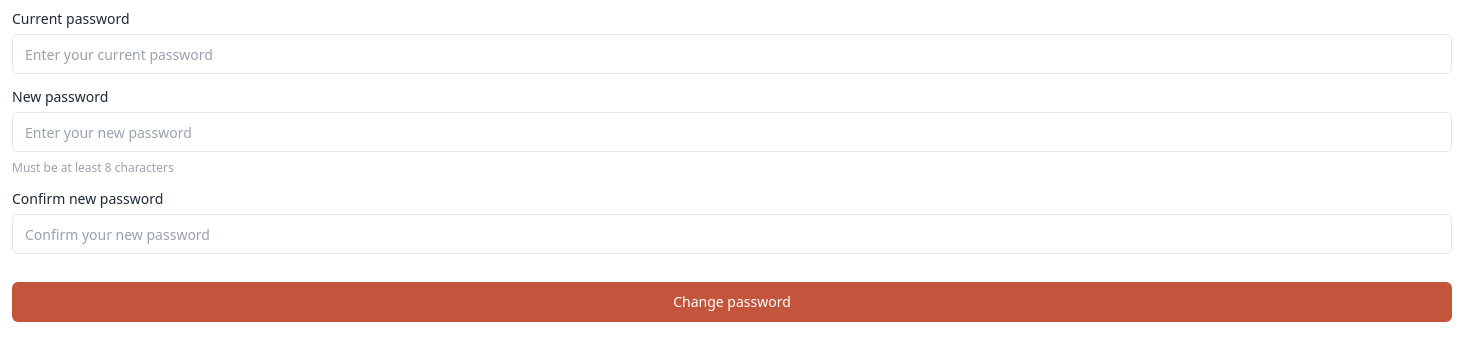
it: ChangePasswordForm › shows validation error when current password is empty
The image size is (1464, 363).
Type "newpassword123" into the password field labelled "New password" at x=732, y=132, box [12,112,1452,152]
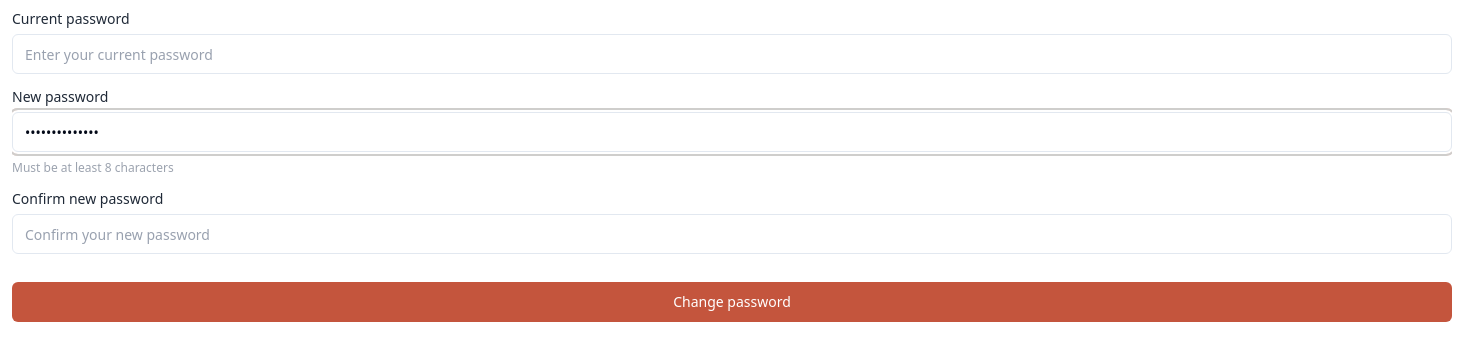
Type "newpassword123" into the password field labelled "Confirm new password" at x=732, y=234, box [12,214,1452,254]
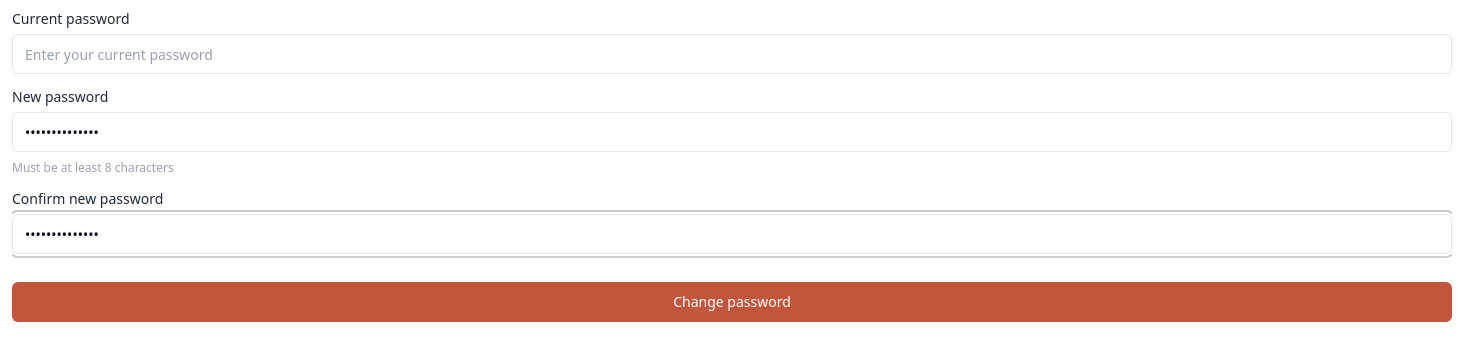
Click the button "Change password" at x=732, y=302, box [12,282,1452,322]
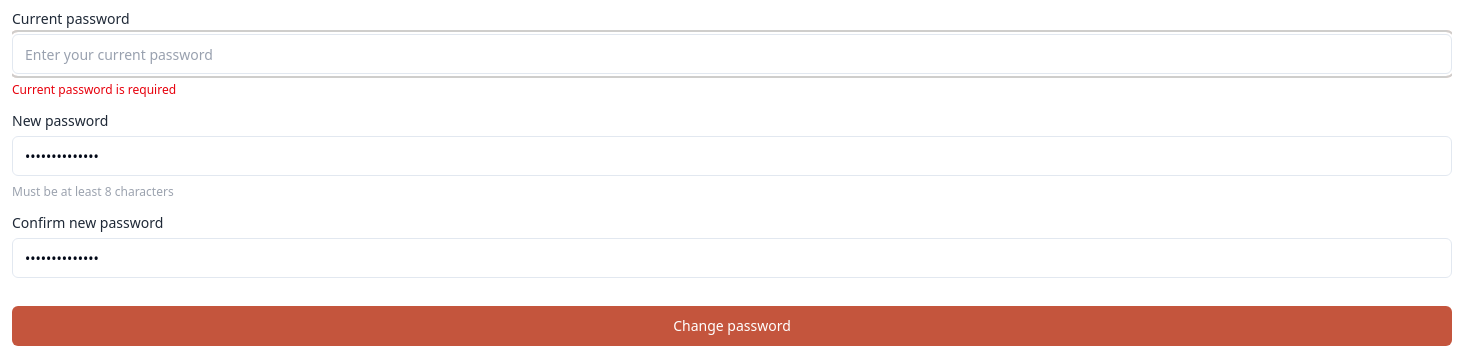
Now the text "Current password is required" is shown, box [12,81,176,98]
